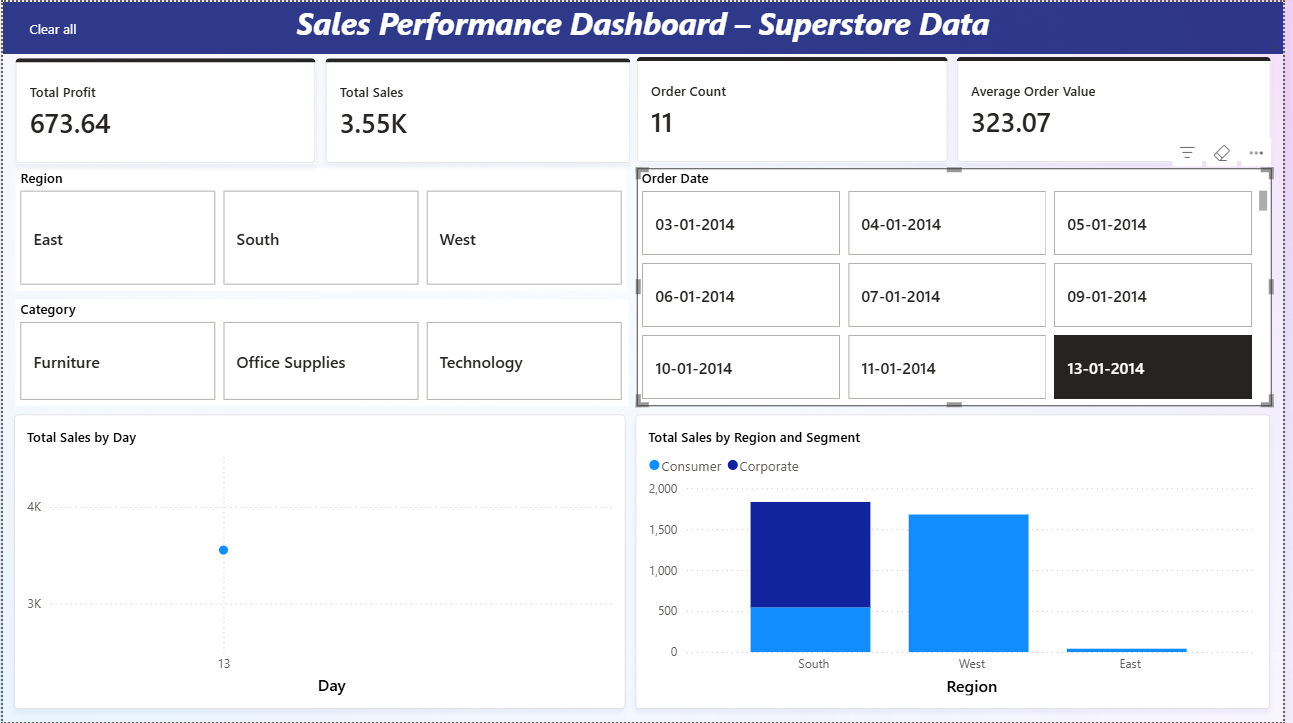

The dashboard page shown, as its layout file describes it:
{"tool":"powerbi","page":{"name":"Top 10 products based on total sales.","canvas":[1280,720],"ordinal":1},"visuals":[{"type":"advancedSlicerVisual","fields":{"Values":["Orders.Region"]},"box":[12.5,166.2,611.2,122.5],"z":0},{"type":"advancedSlicerVisual","fields":{"Values":["Orders.Category"]},"box":[12.5,297.5,612.5,106.2],"z":2000},{"type":"textbox","title":"Sales Performance Dashboard – Superstore Data","box":[0,0,1280,51.7],"z":3000},{"type":"cardVisual","fields":{"Data":["Orders.Total Profit"]},"box":[12.5,56,300.7,105.7],"z":3000,"group":"g1"},{"type":"cardVisual","fields":{"Data":["Orders.Total Sales"]},"box":[322.3,55.7,305.7,105],"z":4000,"group":"g1"},{"type":"advancedSlicerVisual","fields":{"Values":["Orders.Order Date"]},"box":[633.8,166.2,635,237.5],"z":4000},{"type":"cardVisual","fields":{"Data":["Orders.Order Count"]},"box":[634.2,55.1,311.3,105.6],"z":5000,"group":"g1"},{"type":"lineChart","fields":{"Category":["Orders.Order Date.Variation.Date Hierarchy.Day"],"Y":["Orders.Total Sales"]},"box":[11.4,412.9,611.4,294.3],"z":5000},{"type":"cardVisual","fields":{"Data":["Orders.Average Order Value"]},"box":[954.1,55,315,105.6],"z":6000,"group":"g1"},{"type":"columnChart","fields":{"Category":["Orders.Region"],"Series":["Orders.Segment"],"Y":["Orders.Total Sales"]},"box":[632.9,412.9,634.3,294.3],"z":6000},{"type":"group","id":"g1","title":"Group 2","box":[12.5,55,1256.2,106.2],"z":7000},{"type":"actionButton","box":[0,6.2,100,40],"z":8000}]}

Visuals, with their boxes in screenshot pixels (x1, y1, x2, y2), scaled from the page's 1280x720 canvas onto the 1293x723 screenshot:
advancedSlicerVisual - Orders.Region: locate(13, 167, 630, 290)
advancedSlicerVisual - Orders.Category: locate(13, 299, 631, 405)
"Sales Performance Dashboard – Superstore Data" textbox: locate(0, 0, 1292, 52)
cardVisual - Orders.Total Profit: locate(13, 56, 316, 162)
cardVisual - Orders.Total Sales: locate(326, 56, 634, 161)
advancedSlicerVisual - Orders.Order Date: locate(640, 167, 1282, 405)
cardVisual - Orders.Order Count: locate(641, 55, 955, 161)
lineChart - Orders.Order Date.Variation.Date Hierarchy.Day x Orders.Total Sales: locate(12, 415, 629, 710)
cardVisual - Orders.Average Order Value: locate(964, 55, 1282, 161)
columnChart - Orders.Region x Orders.Segment: locate(639, 415, 1280, 710)
"Group 2" group: locate(13, 55, 1282, 162)
actionButton: locate(0, 6, 101, 46)
